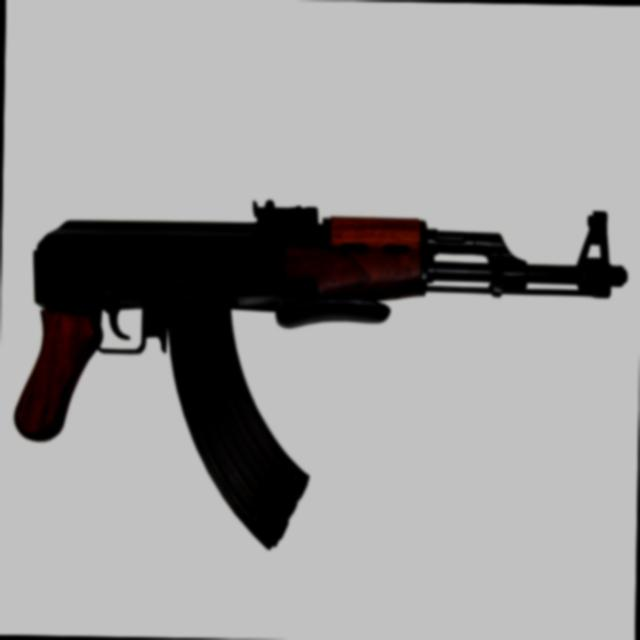ak: (4, 116, 634, 564)
